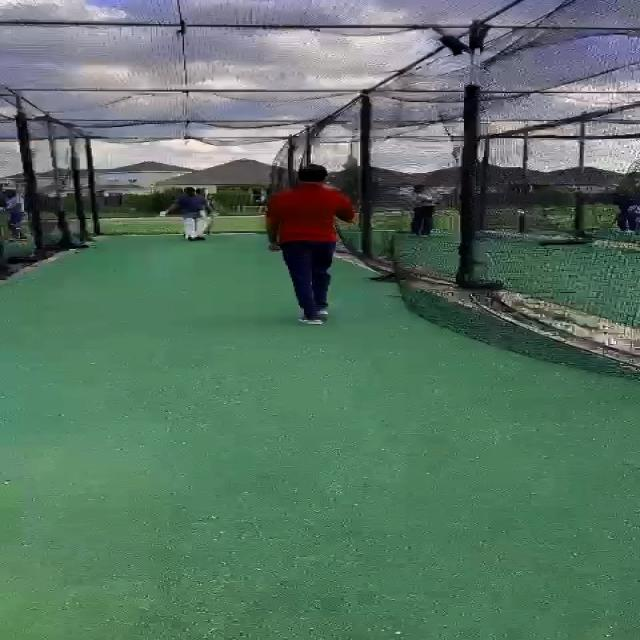batsman: (158, 186, 220, 242)
